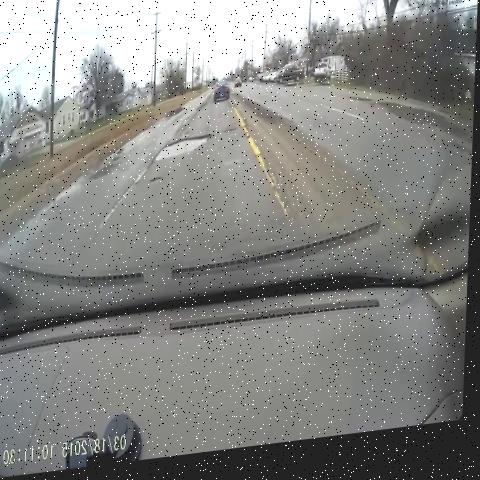pothole: (149, 121, 222, 173), (218, 117, 260, 155), (148, 170, 170, 196)
